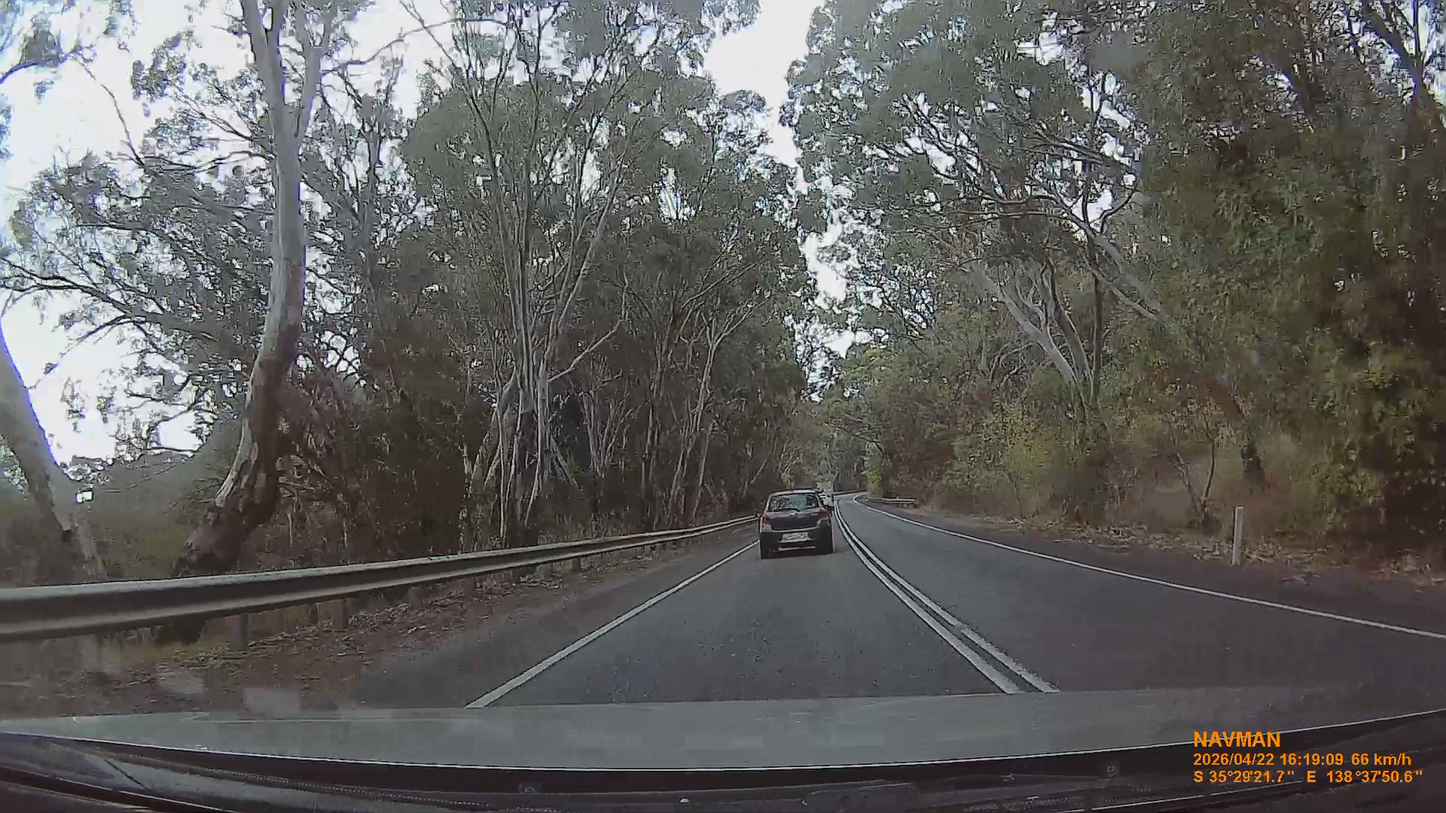road barriers: (0, 519, 749, 642)
